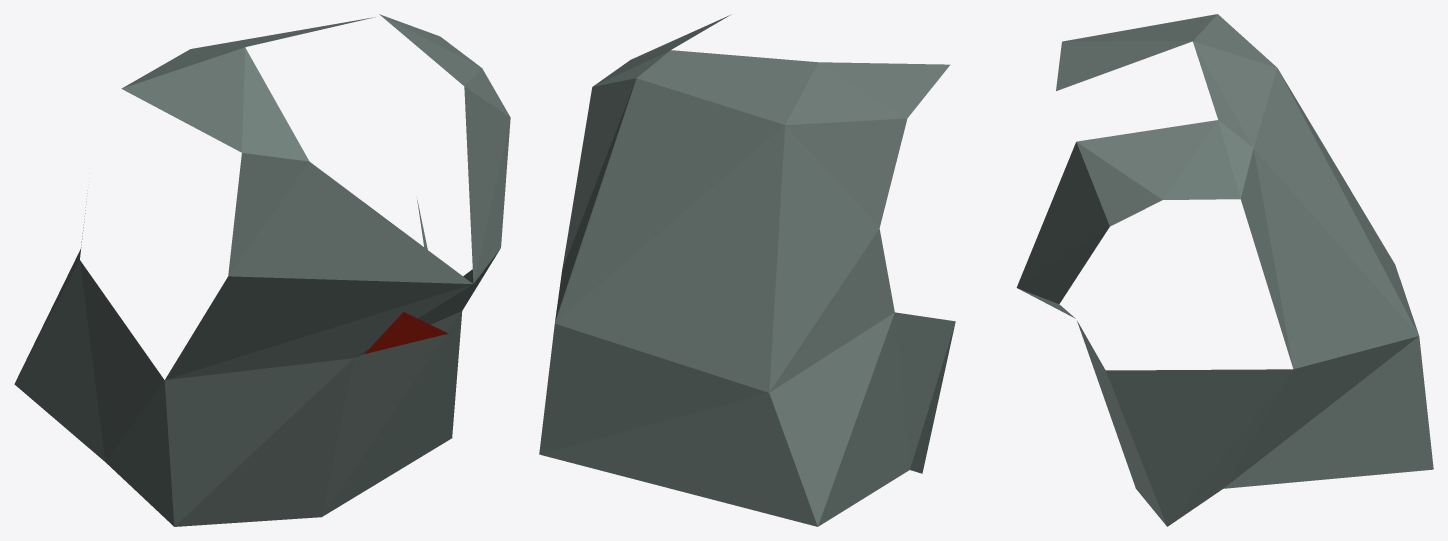
3 renders of one model, left to right at view 1: azimuth 30°, elevation 25°; view 2: azimuth 150°, elevation 25°; view 3: azimuth 270°, elevation 25°, orthographic. The views are drawn at different scales.
Size of the model in its own units: 0.475 by 0.5954 by 0.5485.
2 materials, 2 textured.
